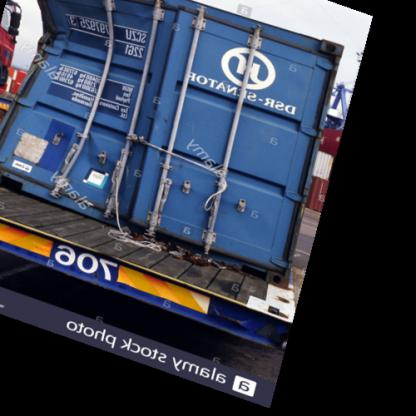Damage: (5, 2, 180, 204)
